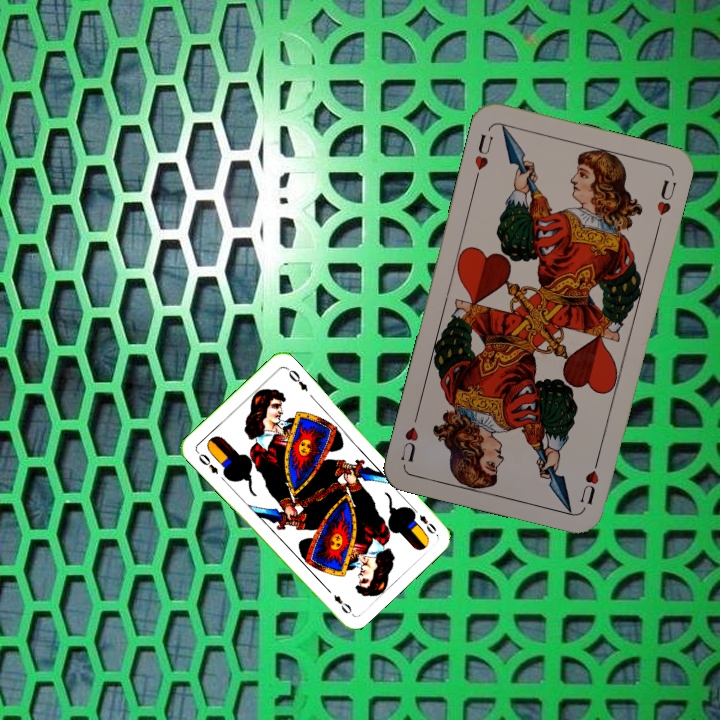EO: (408, 503, 439, 536), (192, 447, 221, 477)
HU: (576, 452, 603, 507), (470, 130, 496, 183)
